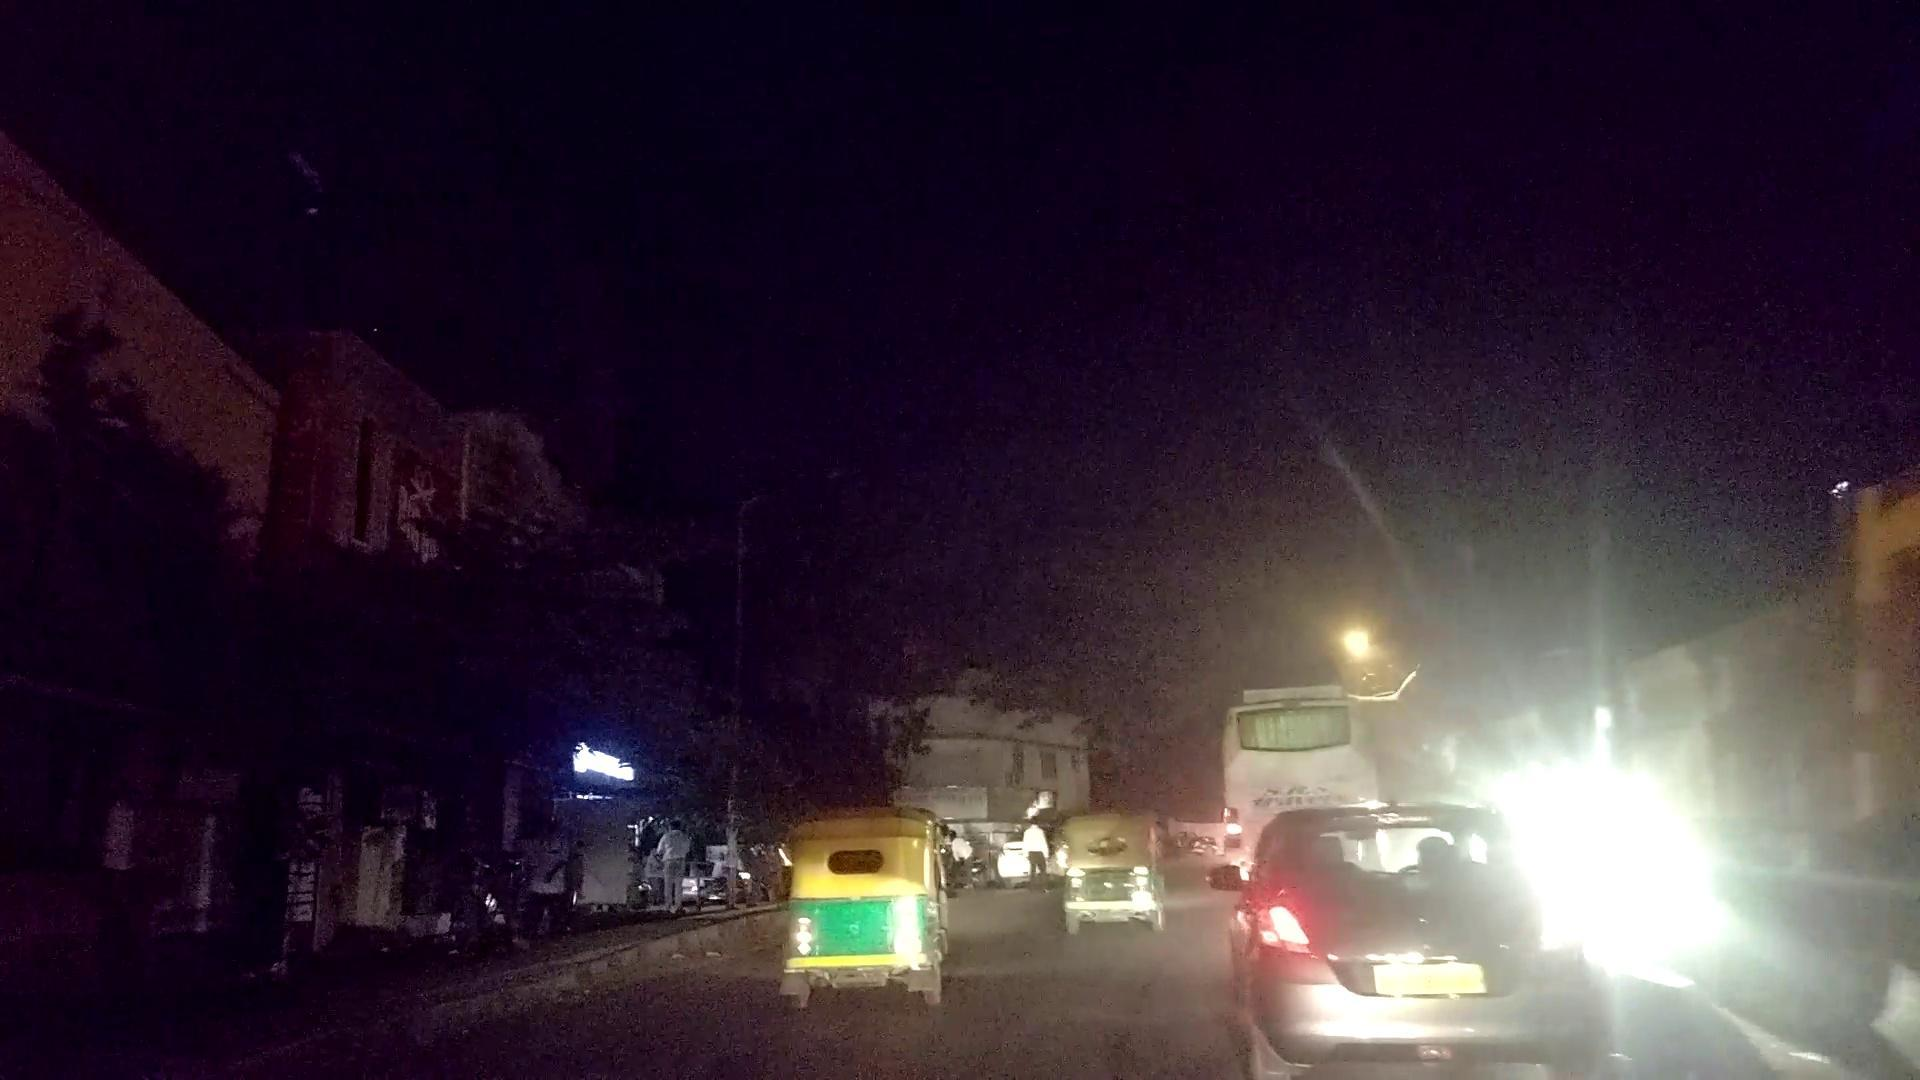on: (1160, 531, 1830, 1080)
